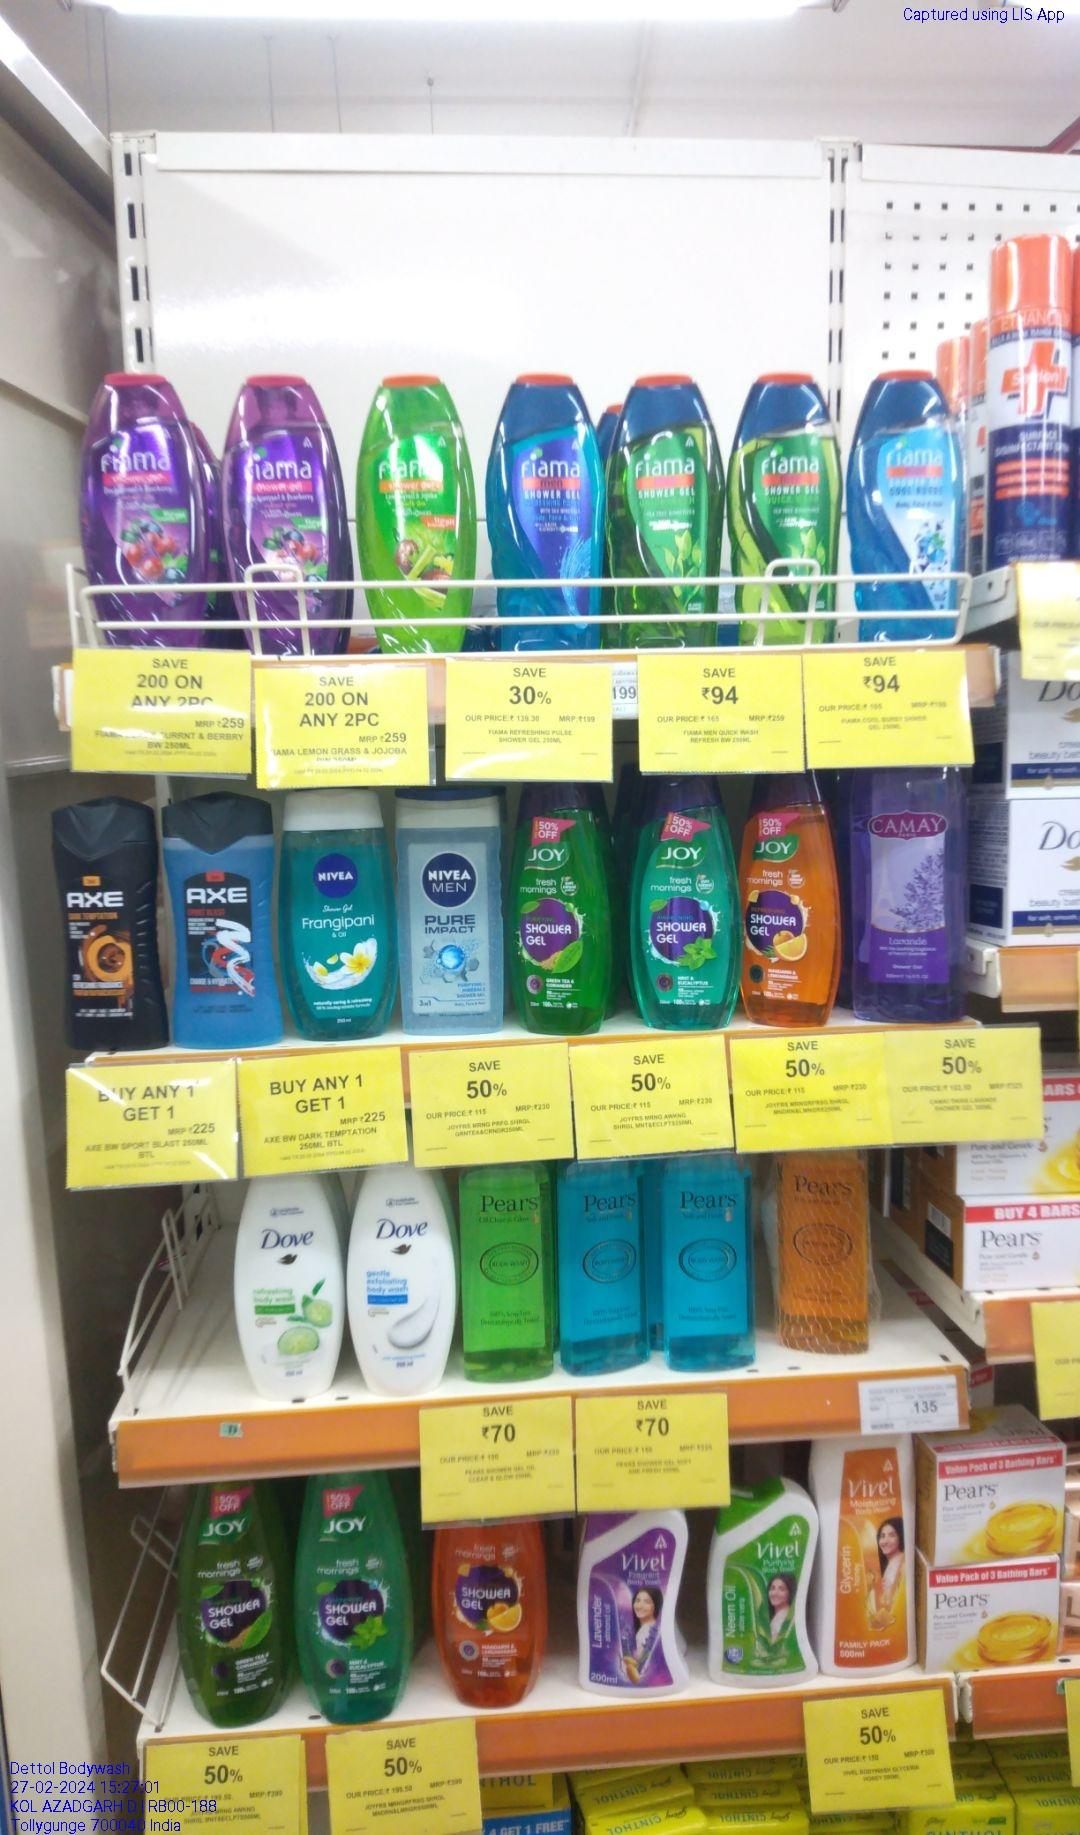Dove_Gentle_Exfoliating_Body_Wash_250ML: (351, 1166, 451, 1396)
Dove_Refreshing_Body_Wash_250ML: (237, 1180, 343, 1403)
Fiama_Shower_Gel_Lemongrass_and_Jojoba_250ML: (361, 365, 478, 654)
Joy_Shower_Gel_Mandarin_and_Lemongrass_250ML: (739, 779, 838, 1034), (432, 1529, 549, 1704)
Joy_Shower_Gel_Mint_and_Eucalyptus_250ML: (633, 772, 734, 1028), (307, 1476, 401, 1726)
Nivea_Shower_Gel_Frangipani_and_Oil_250ML: (282, 789, 397, 1036)
Pears_Pure_Glycerin_and_Lemon_Flower_Extracts_Body_Wash_250ML: (462, 1171, 552, 1384)
Pears_Pure_Glycerin_and_Mint_Extracts_Body_Wash_250ML: (562, 1153, 649, 1378), (665, 1158, 755, 1375)
